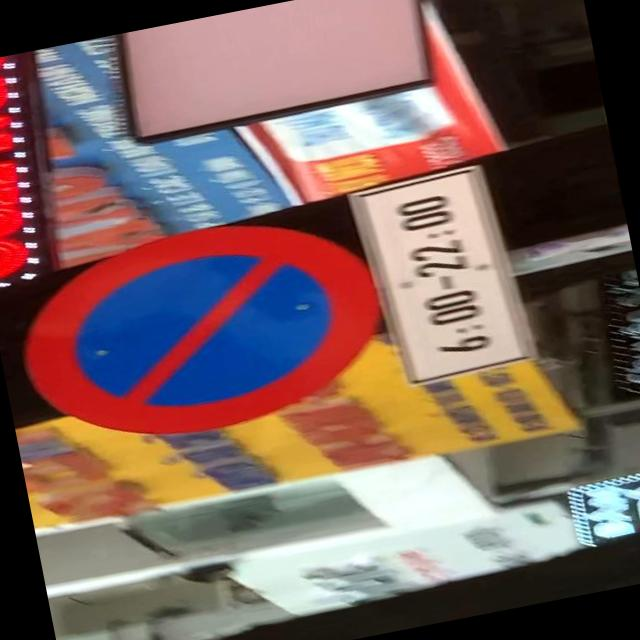P-131a: (6, 199, 398, 459)
